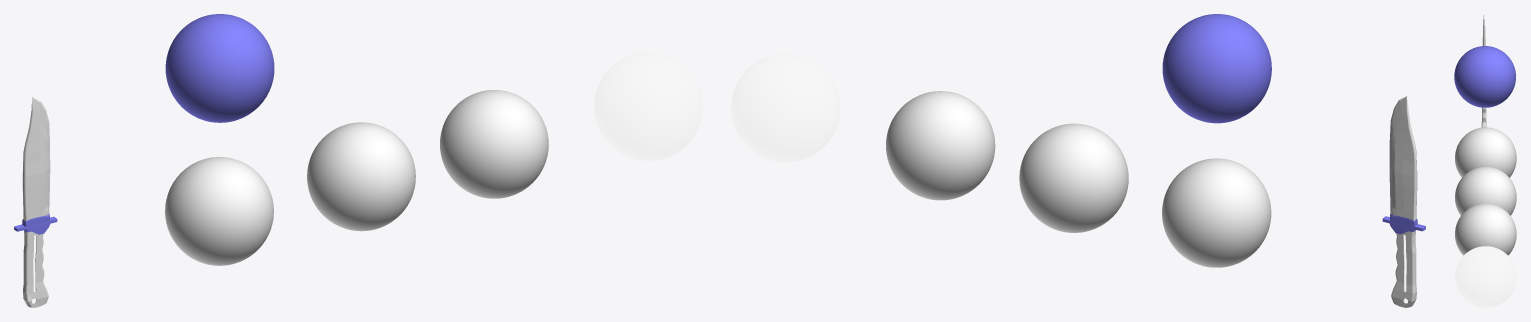
The model's file is Knife.gltf.
3 renders of one model, left to right at view 1: azimuth 30°, elevation 25°; view 2: azimuth 150°, elevation 25°; view 3: azimuth 270°, elevation 25°, orthographic. The views are drawn at different scales.
Visible parts, largest first — view 1: Rough Light Metal, Metal Black, Rough Dark Metal, Metal Red, Glow Material, Dagger; view 2: Glow Material, Rough Light Metal, Metal Black, Rough Dark Metal, Metal Red, Dagger; view 3: Glow Material, Metal Black, Rough Dark Metal, Rough Light Metal, Metal Red, Dagger.
Part boxes in pixels (x1,y1,x2,y2): Rough Light Metal: [165, 157, 273, 265]; Metal Black: [165, 14, 274, 122]; Rough Dark Metal: [440, 90, 548, 198]; Metal Red: [307, 122, 415, 231]; Glow Material: [594, 52, 702, 161]; Dagger: [14, 96, 57, 307]; Glow Material: [731, 53, 840, 162]; Rough Light Metal: [1162, 158, 1271, 267]; Metal Black: [1162, 14, 1271, 123]; Rough Dark Metal: [886, 91, 995, 200]; Metal Red: [1019, 123, 1128, 232]; Dagger: [1382, 96, 1425, 307]; Glow Material: [1455, 246, 1516, 307]; Metal Black: [1454, 46, 1515, 107]; Rough Dark Metal: [1455, 203, 1516, 255]; Rough Light Metal: [1455, 127, 1516, 177]; Metal Red: [1455, 166, 1516, 215]; Dagger: [1481, 14, 1486, 127].
Bounding box in the file's own units: 14.45 × 4.9 × 2.02.
5 materials, 1 textured.
